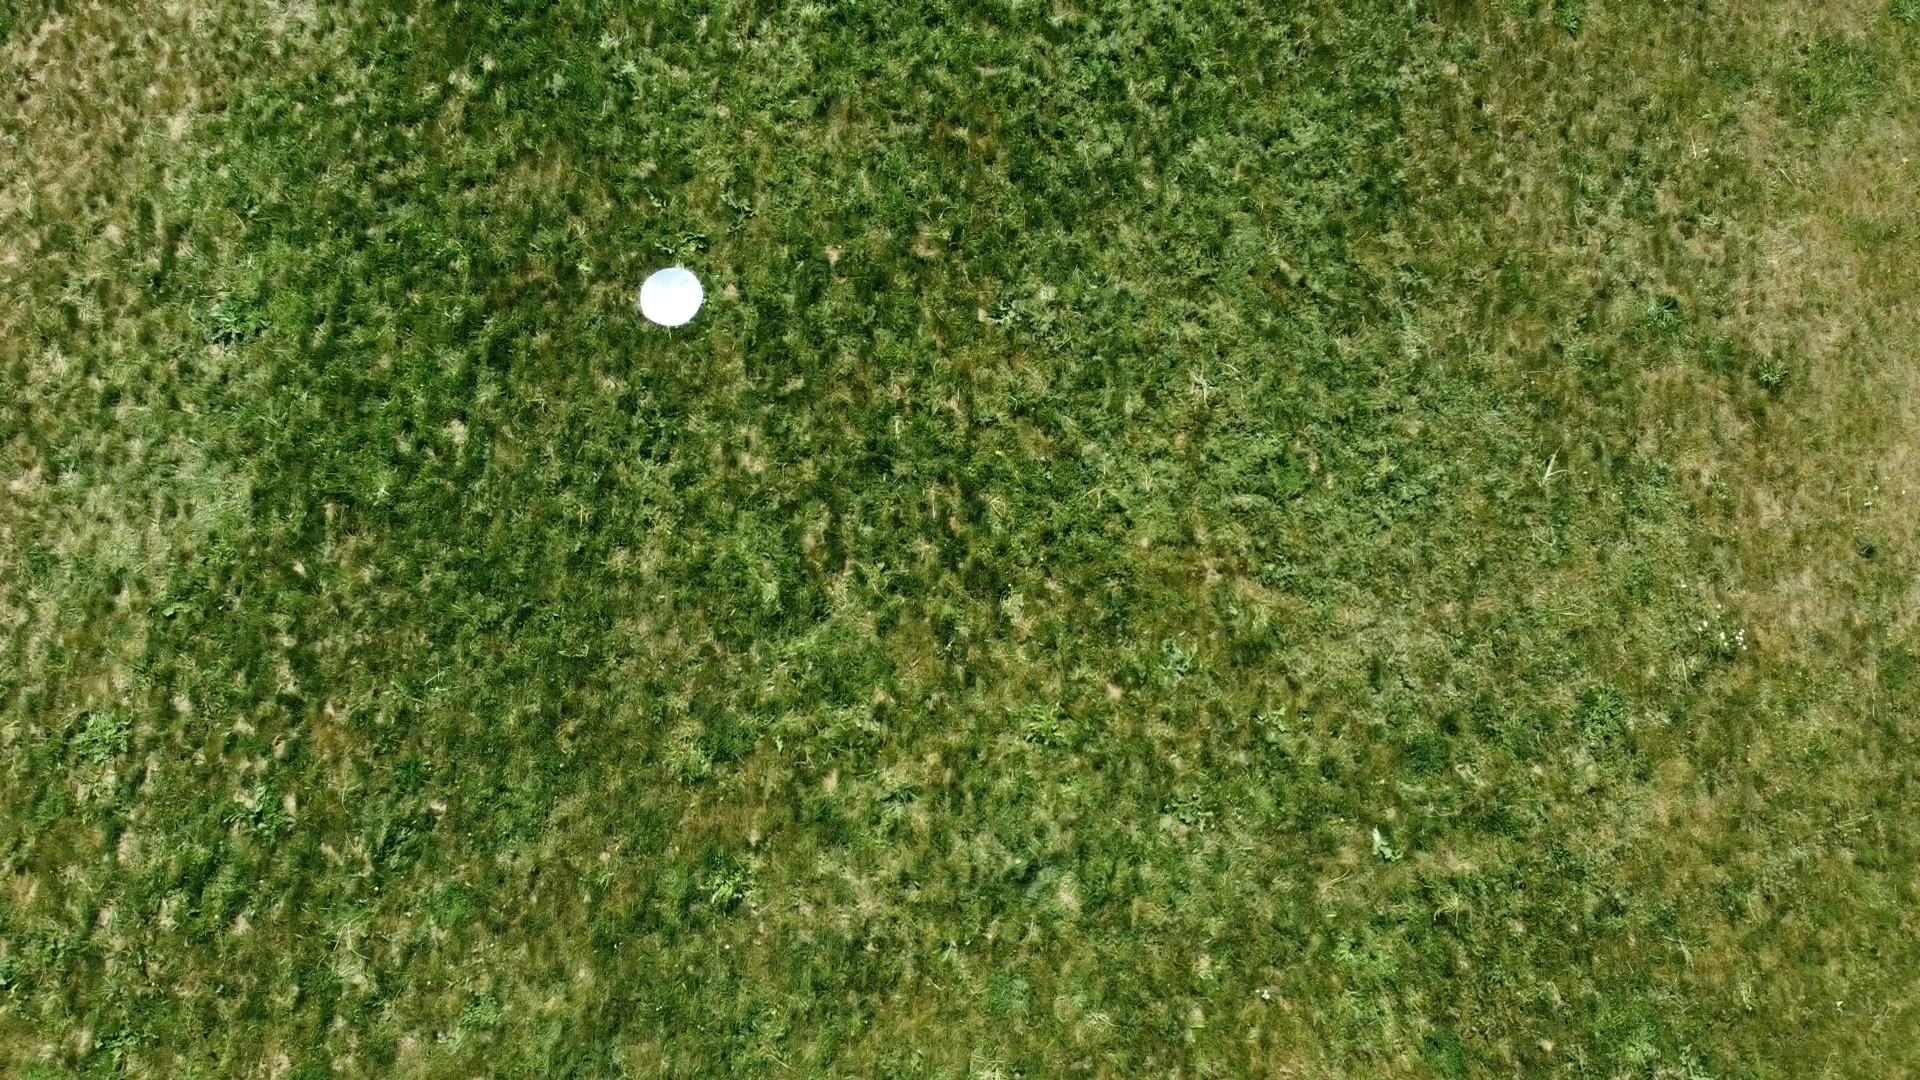Blue: (638, 265, 705, 328)
